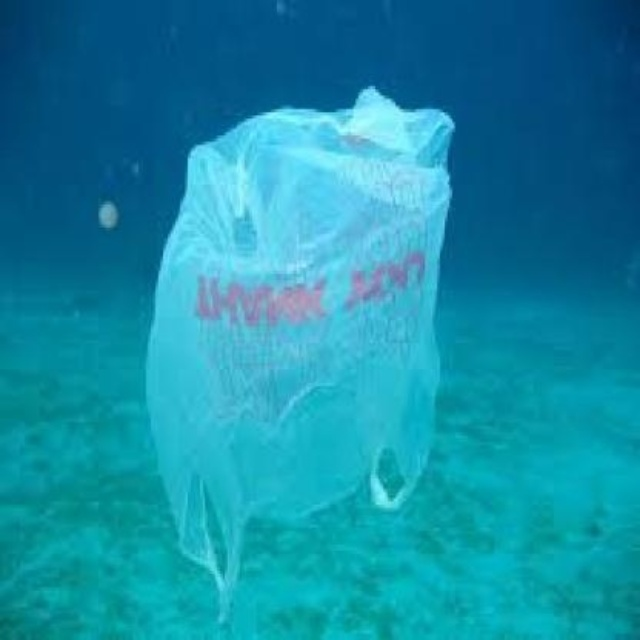trash: (146, 88, 452, 615)
